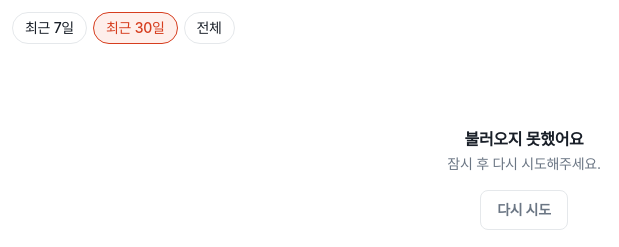
it: 수정 이력 탭 — '이전 → 지금'이 한 줄로 읽힌다 (design 화면 10-3) › 빈 목록·에러
What coordinates should you click on to do the following:
click the button "다시 시도"
I would click on:
 (524, 210)
Its box is left=480, top=190, right=568, bottom=230.
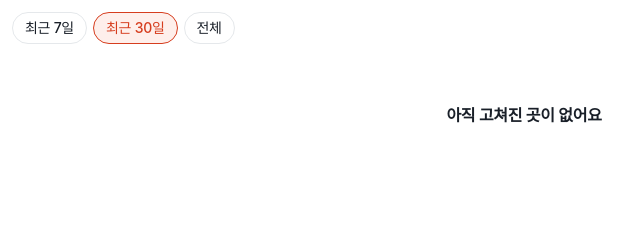
Expected: the text "아직 고쳐진 곳이 없어요" is shown, left=446, top=104, right=602, bottom=126
